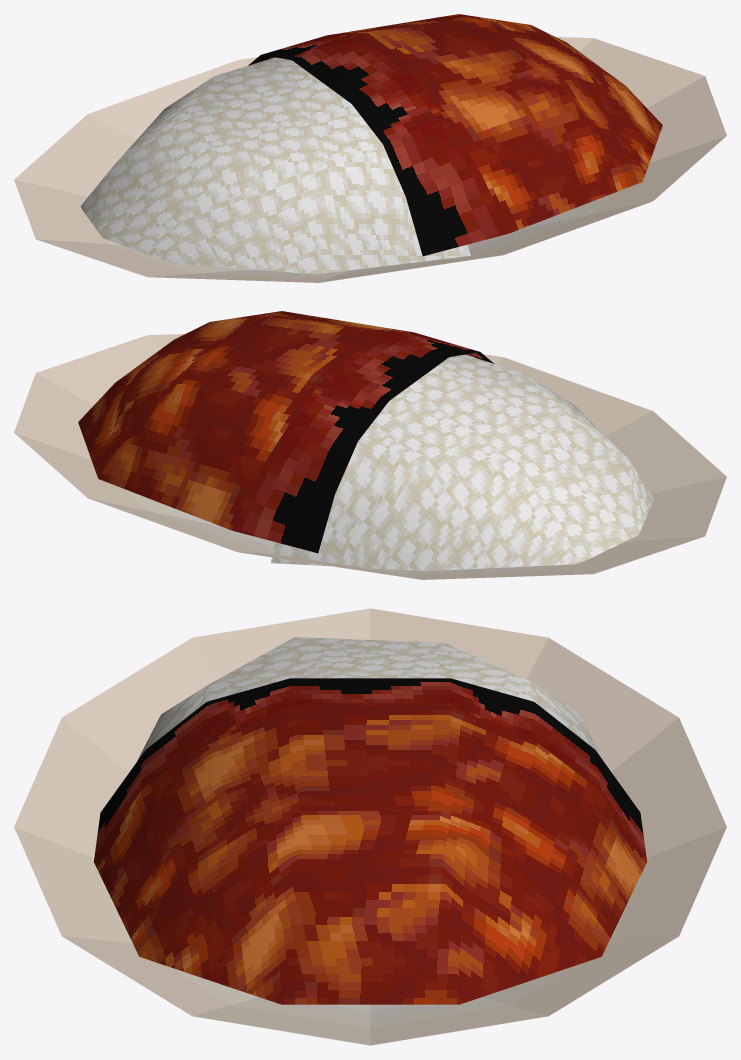
The picture shows the model from 3 angles, top to bottom: view 1: azimuth 30°, elevation 25°; view 2: azimuth 150°, elevation 25°; view 3: azimuth 270°, elevation 25°; orthographic projection. The views are drawn at different scales.
Visible parts, largest first — view 1: hayashi; view 2: hayashi; view 3: hayashi.
Part boxes in pixels (x1,y1,x2,y2): hayashi: (14,14,726,282); hayashi: (14,311,726,579); hayashi: (14,608,726,1045).
Size of the model in its own units: 0.8672 by 0.249 by 0.5977.
4 materials, 4 textured.
